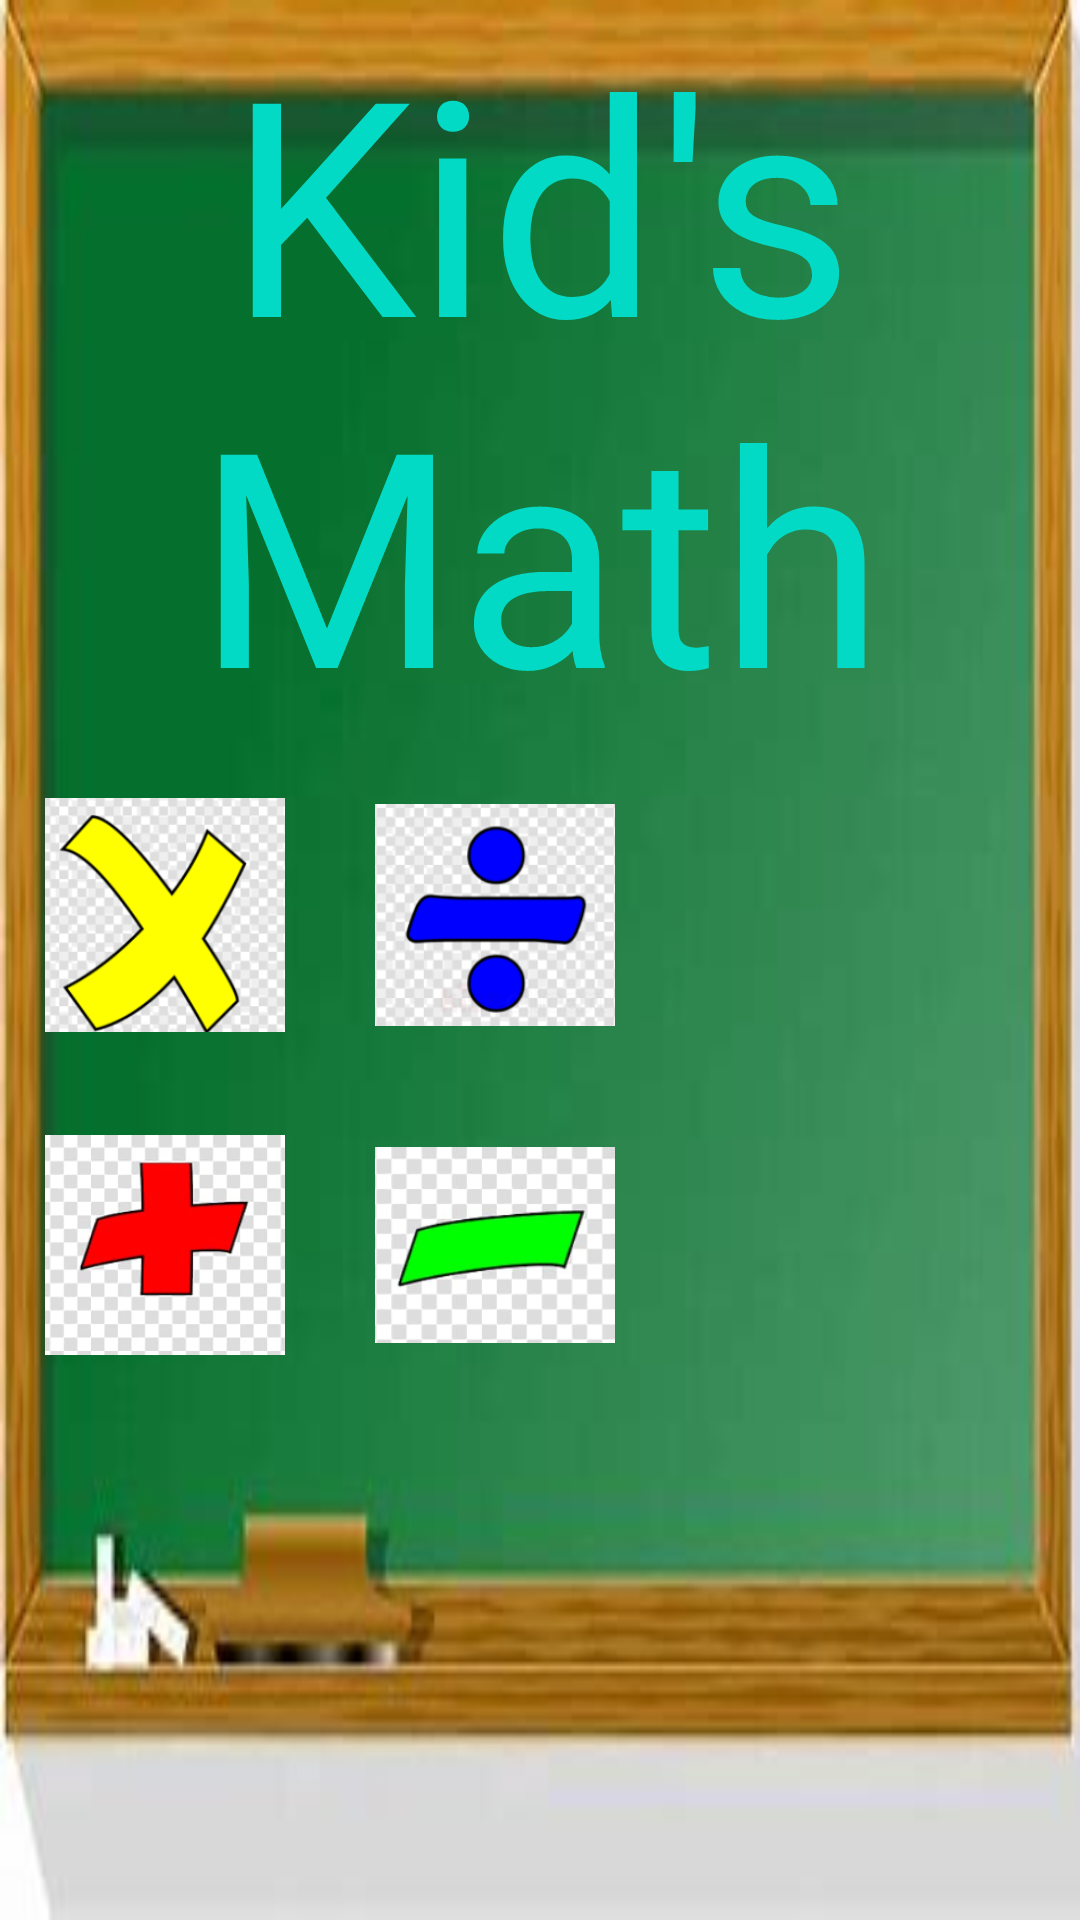

Screen size 1080×1920. Icon name, then its box in pixels as (x1, y1, x2, y2):
addtion: (45, 1125, 285, 1365)
division: (375, 804, 615, 1026)
multiply: (45, 795, 285, 1035)
subtract: (375, 1147, 615, 1343)
